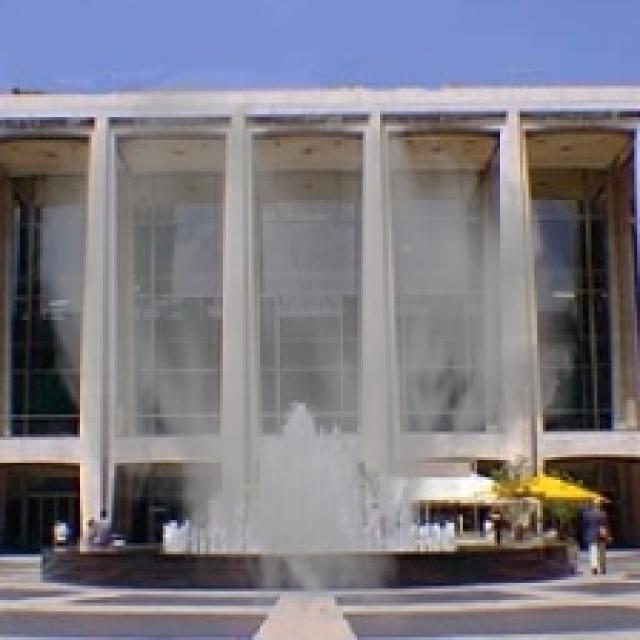Smoke: (22, 72, 588, 638)
